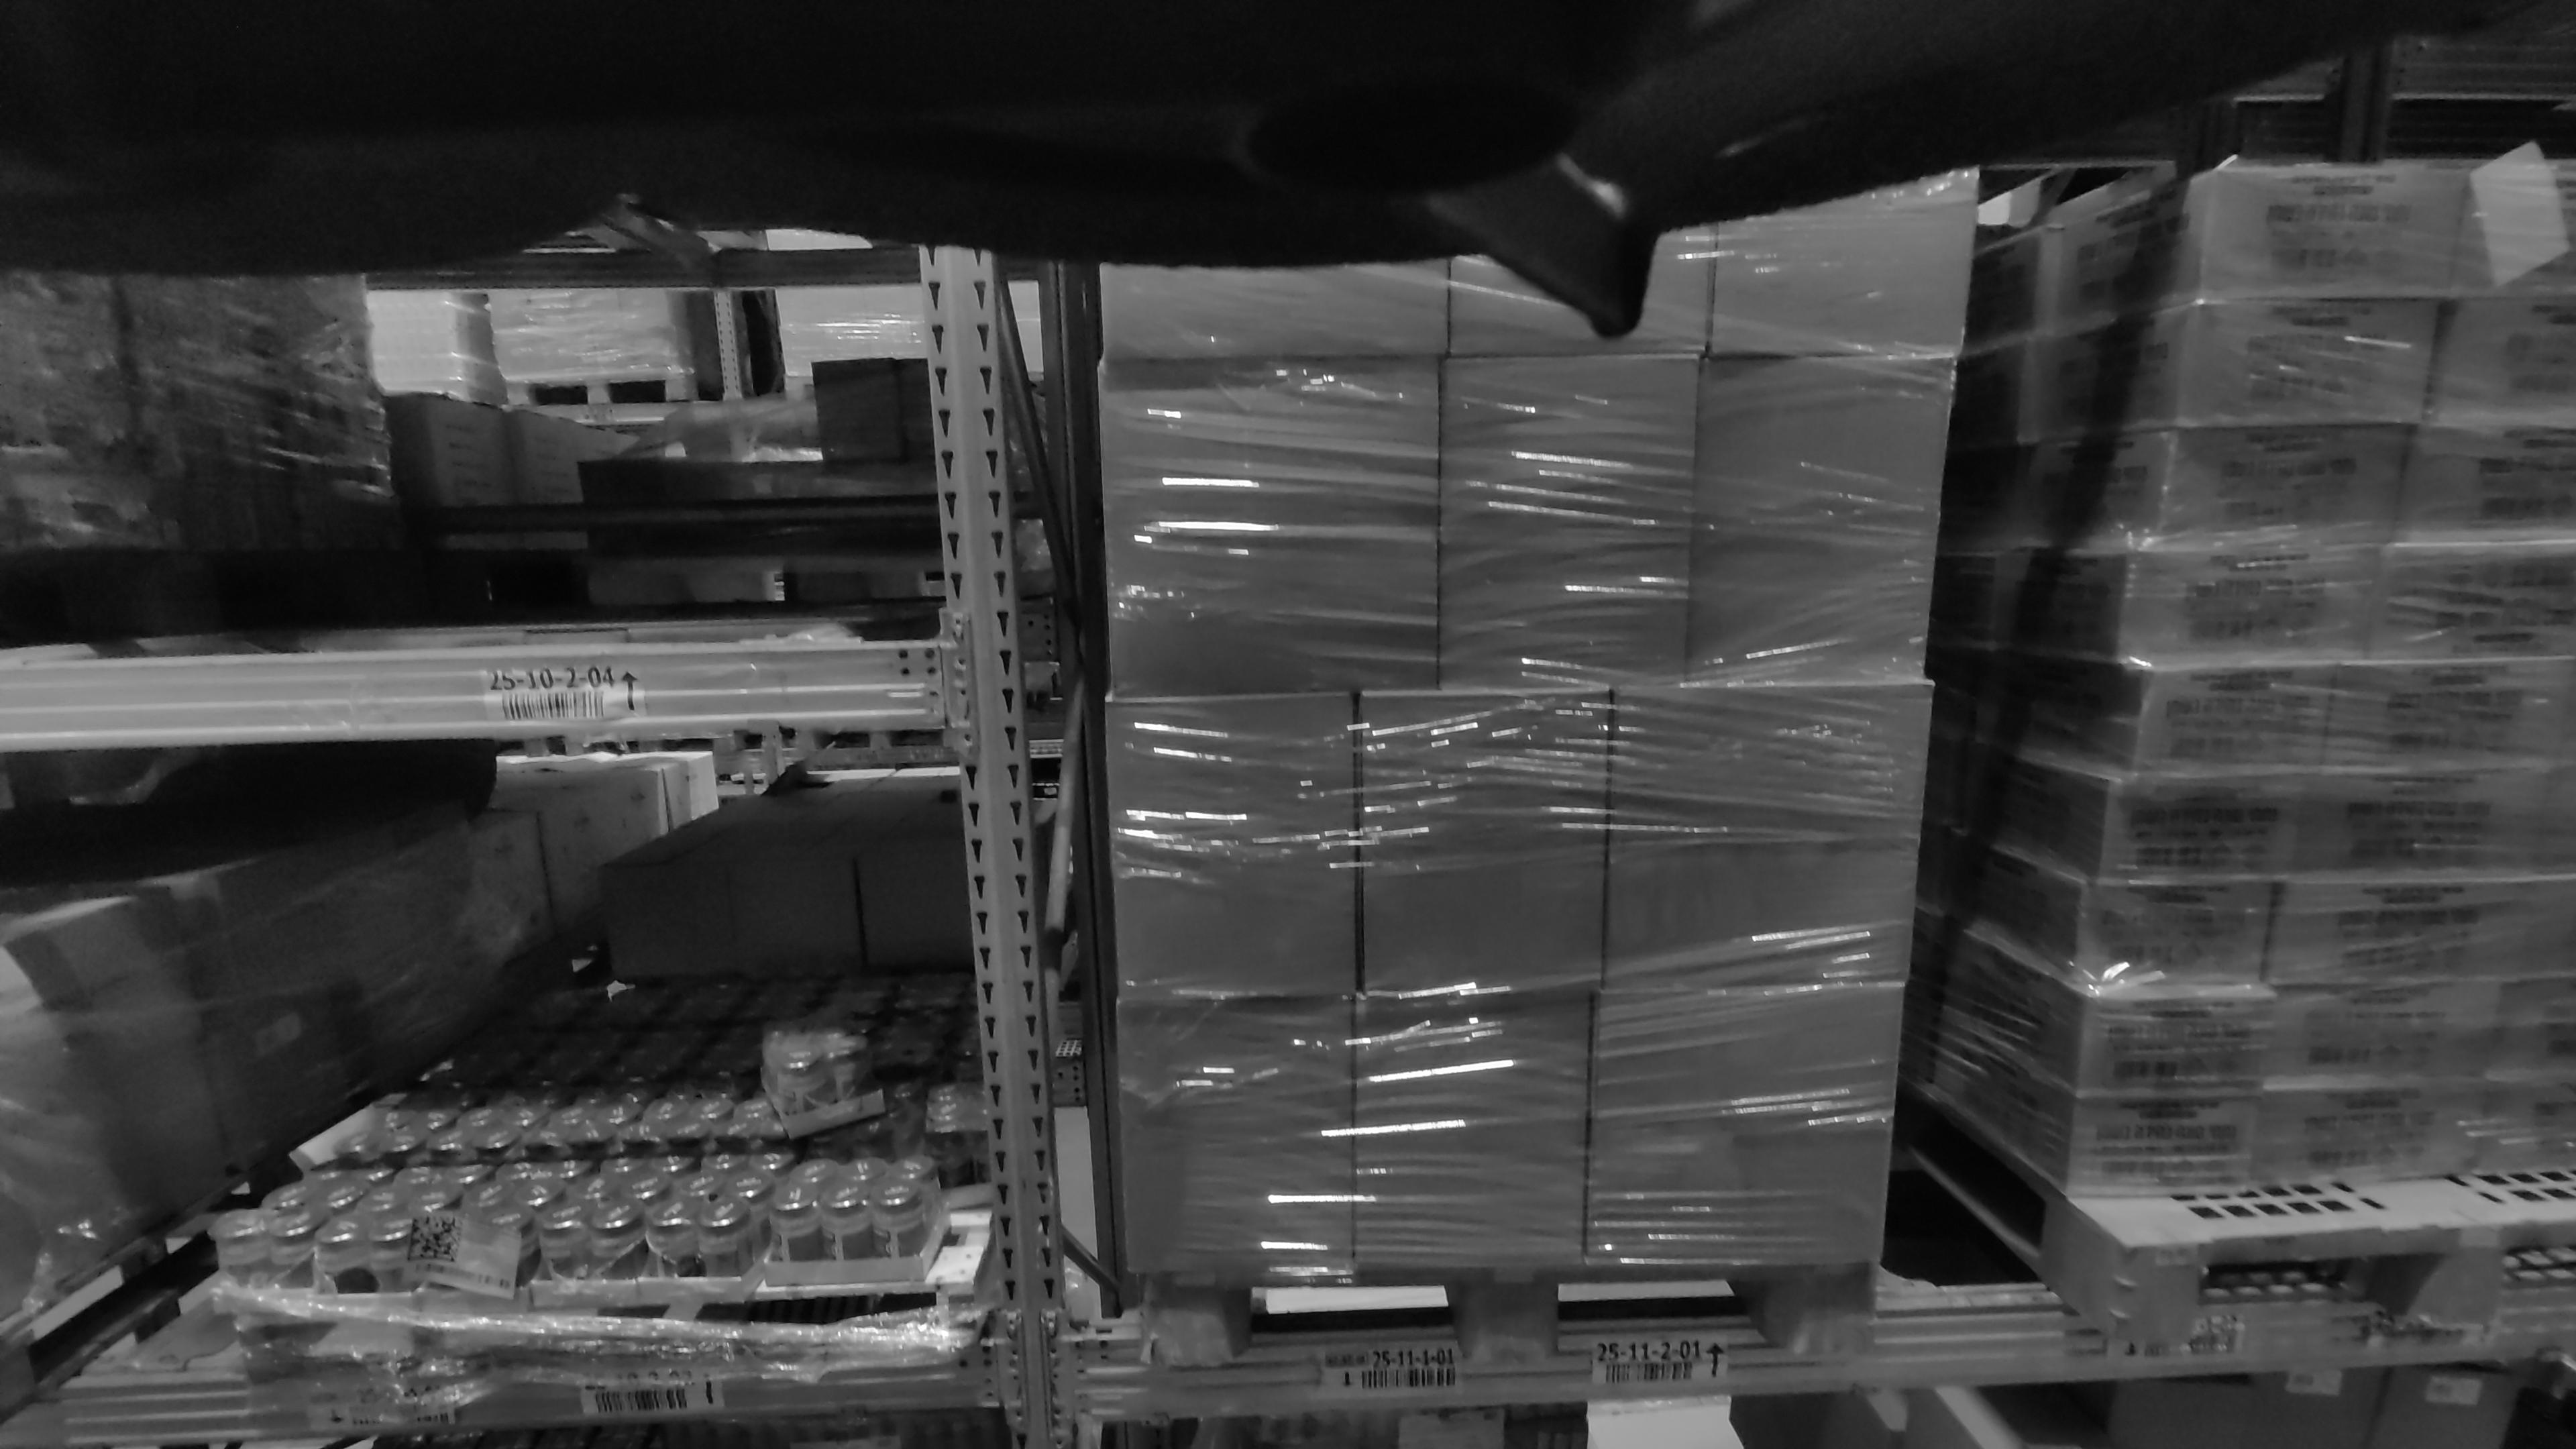empty-shelf: (150, 272, 904, 633)
